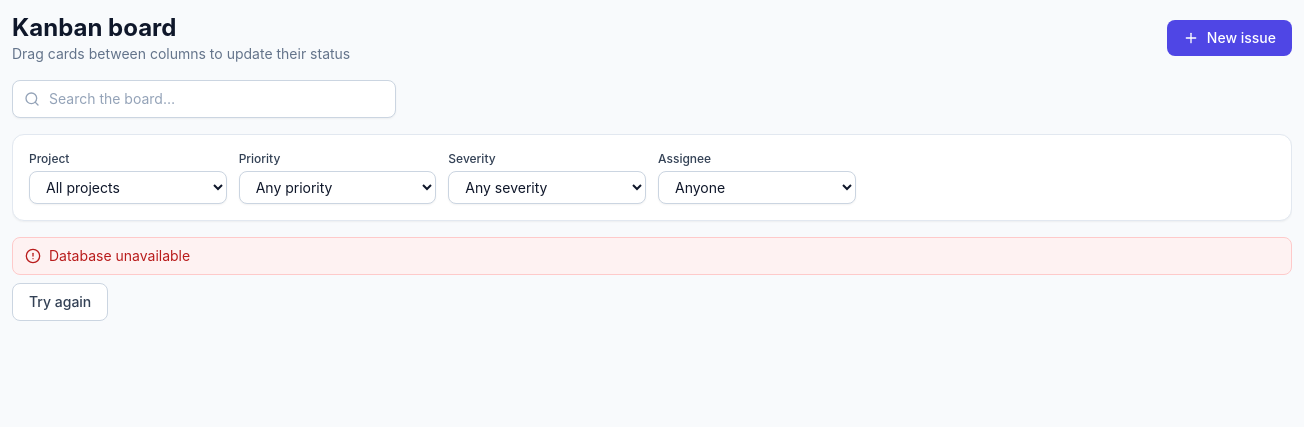
Kanban board › shows an error with retry when loading fails
The image size is (1304, 427).
Expected: the text "Database unavailable" is shown, [49,246,190,266]
Click the button "Try again": (60, 302) [12,283,108,321]
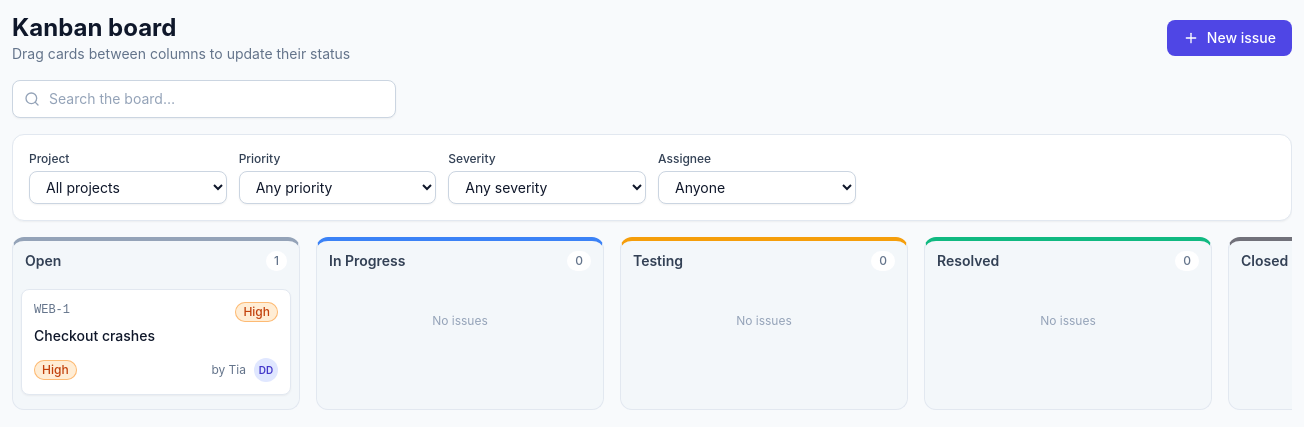
Result: the link "Checkout crashes" is shown at [34,327,155,344]
